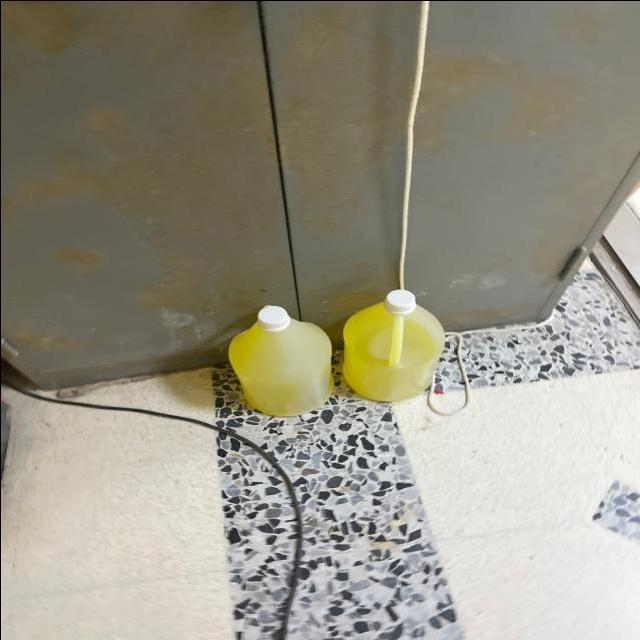HDPE Plastic: (211, 299, 336, 421), (344, 290, 446, 408)
